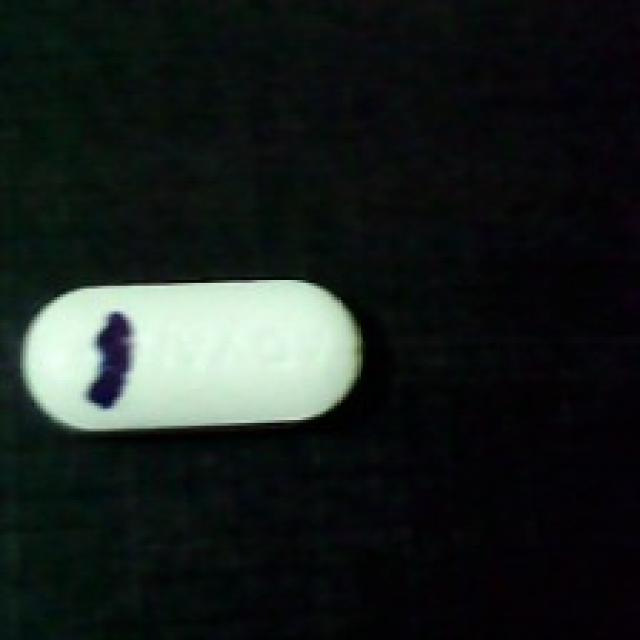defected: (17, 271, 366, 440)
